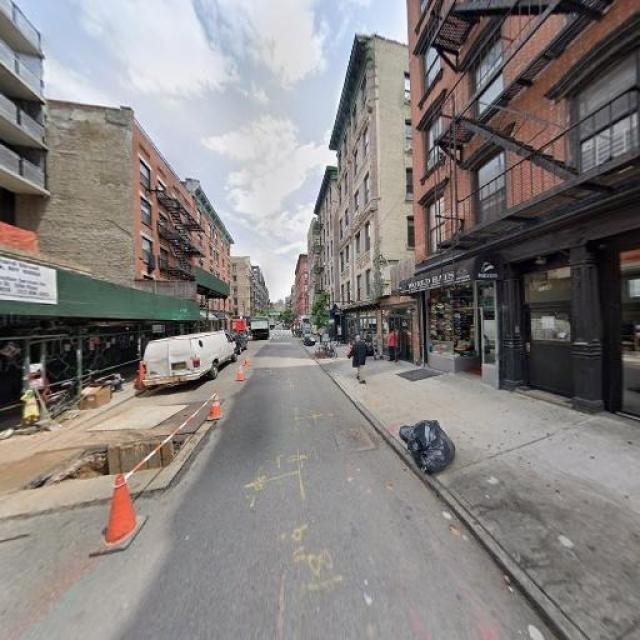Building: (414, 1, 640, 427), (339, 2, 412, 359), (1, 1, 48, 404), (134, 123, 194, 365), (198, 185, 232, 345), (318, 155, 332, 333)
